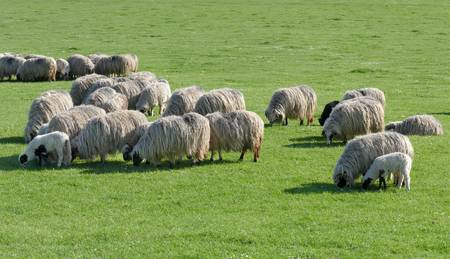sheep: (129, 112, 212, 169), (72, 107, 148, 159), (207, 109, 266, 162), (322, 97, 386, 141), (22, 86, 73, 134), (266, 83, 318, 126), (360, 152, 413, 193), (19, 131, 72, 170), (195, 85, 248, 114), (396, 107, 445, 138), (16, 53, 60, 84), (134, 80, 171, 115), (95, 54, 138, 76), (69, 53, 95, 76)
